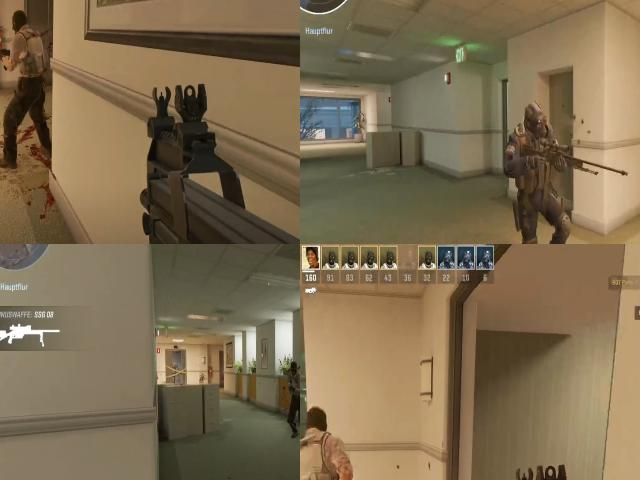CT: (510, 103, 559, 244)
CT-Head: (517, 99, 552, 141)
T: (0, 4, 49, 95), (300, 407, 353, 480), (287, 360, 300, 409)
T-Head: (300, 400, 337, 441), (4, 6, 34, 38), (287, 359, 300, 379)
